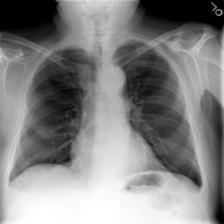normal: (7, 39, 210, 197)
